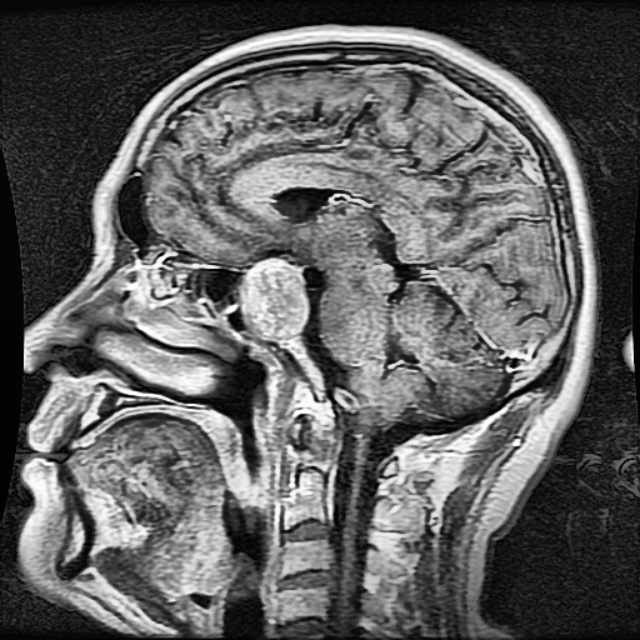Pituitary: (240, 259, 308, 342)
